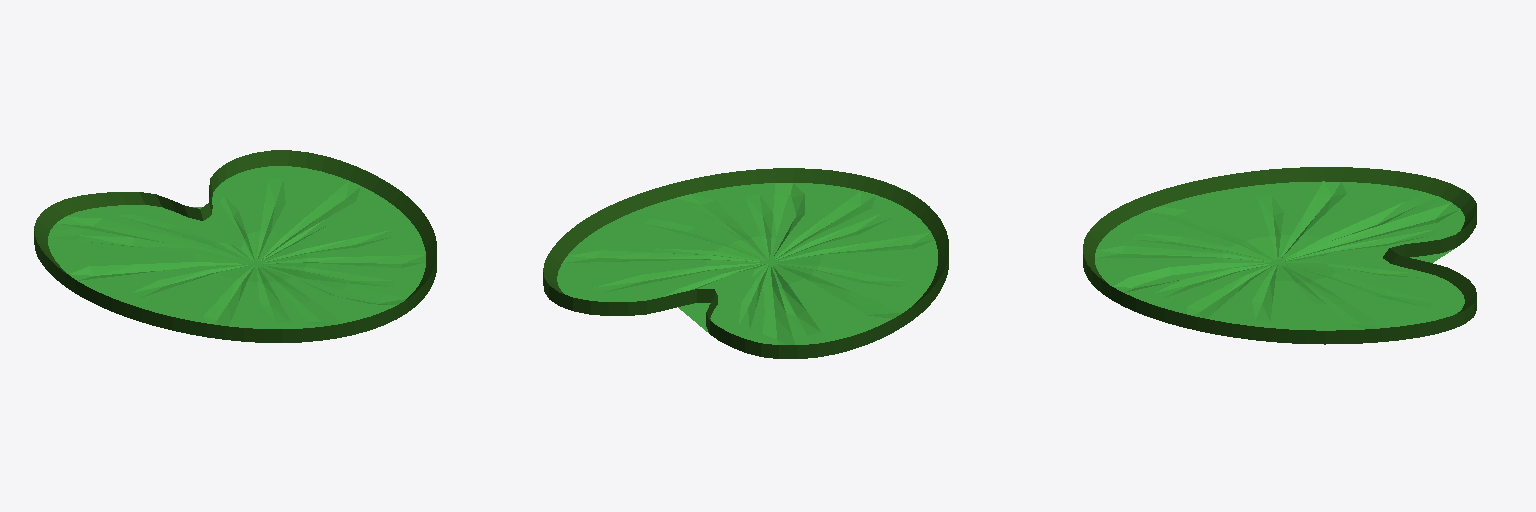
File: Seerosenblatt4.obj
3 renders of one model, left to right at view 1: azimuth 30°, elevation 25°; view 2: azimuth 150°, elevation 25°; view 3: azimuth 270°, elevation 25°, orthographic.
Visible parts, largest first — view 1: Extrudieren; view 2: Extrudieren; view 3: Extrudieren.
Boxes of the visible parts, x1=… form: Extrudieren: x1=34, y1=150, x2=436, y2=342; Extrudieren: x1=543, y1=168, x2=948, y2=358; Extrudieren: x1=1083, y1=167, x2=1476, y2=344.
Bounding box in the file's own units: 380 × 15.67 × 387.